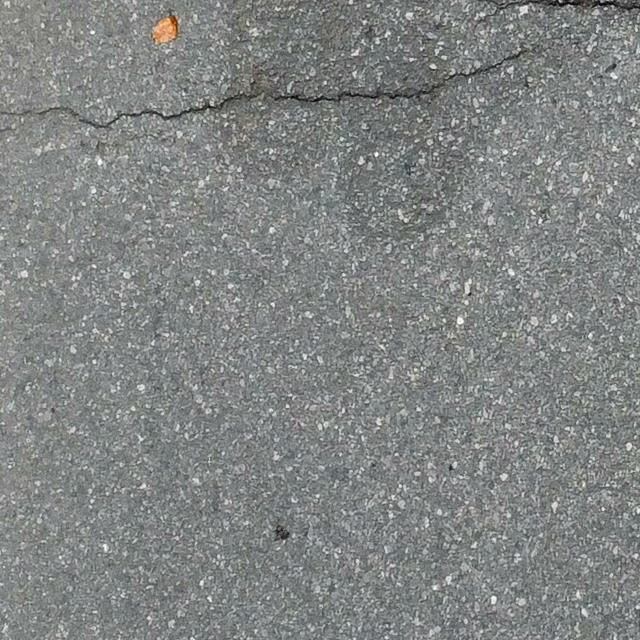TransverseCrack: (1, 48, 534, 130), (481, 1, 640, 18)
